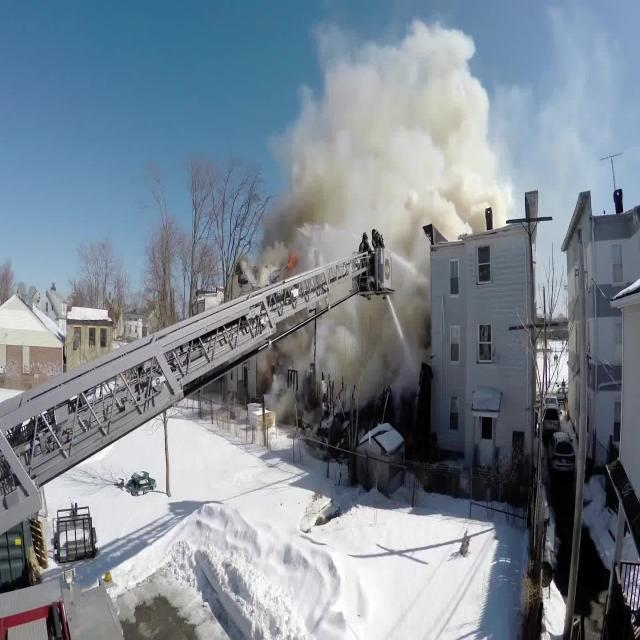Smoke: (305, 66, 433, 383)
